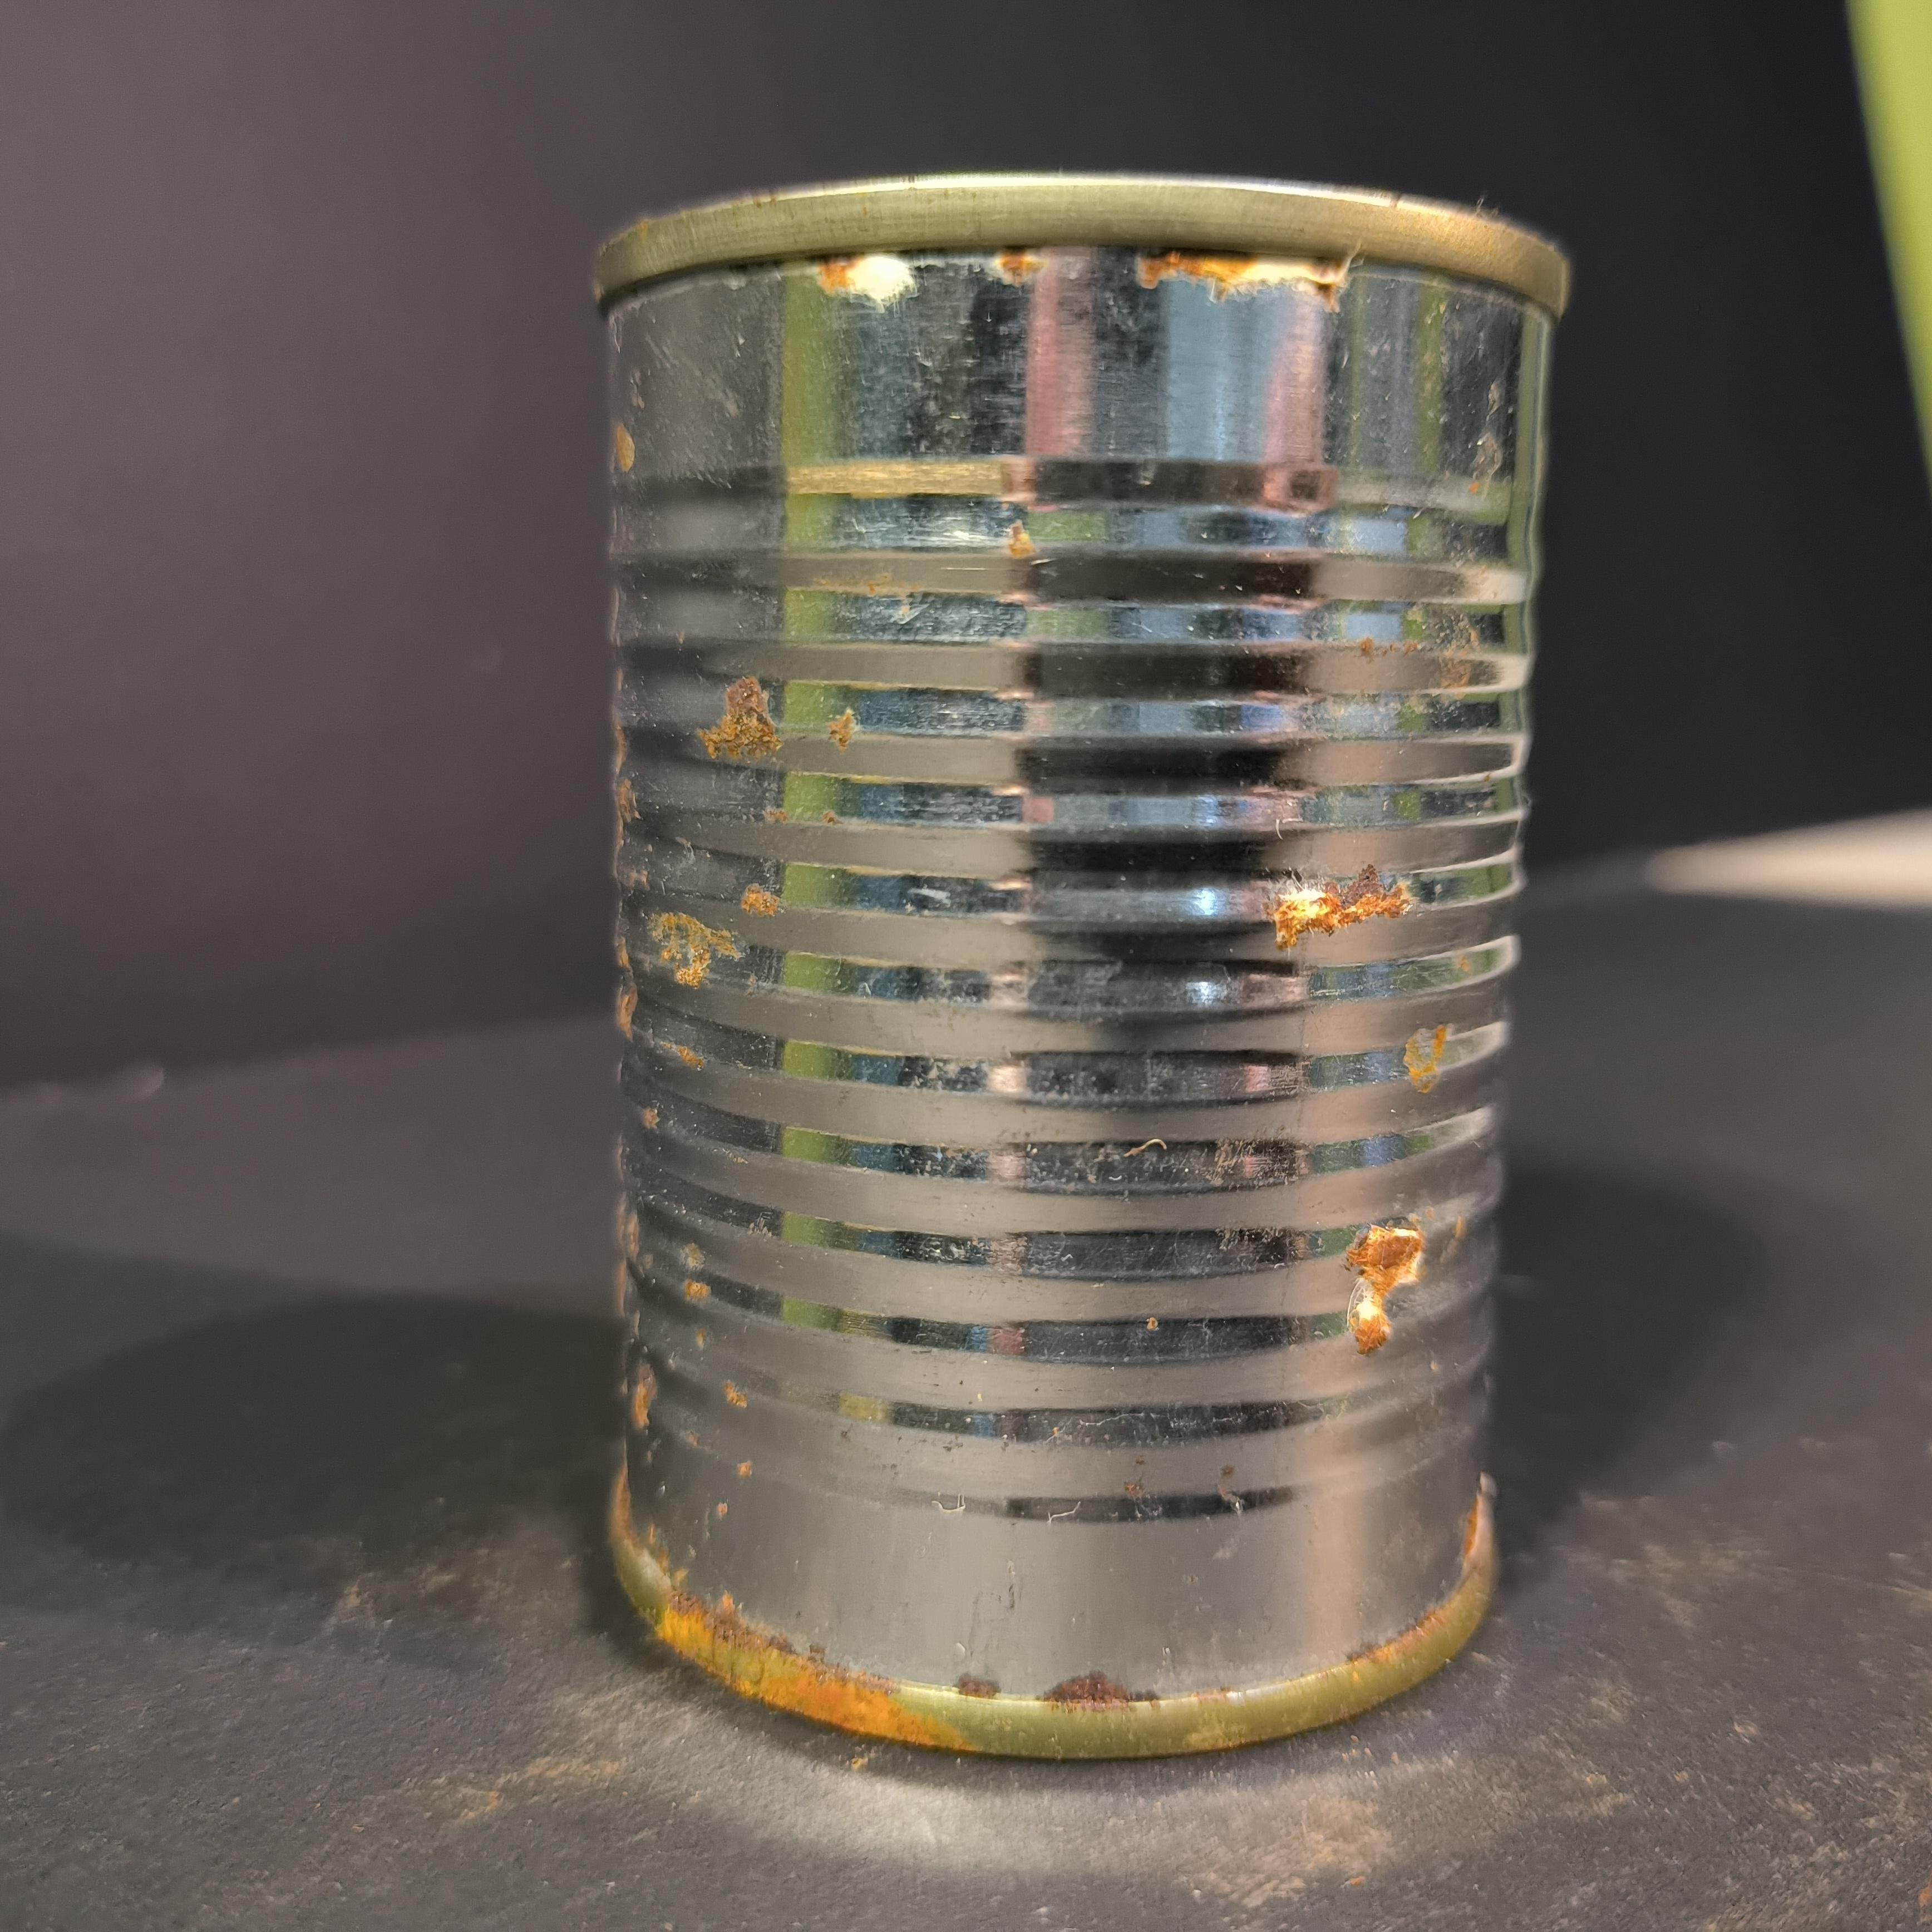Rusted: (554, 140, 1575, 1780)
